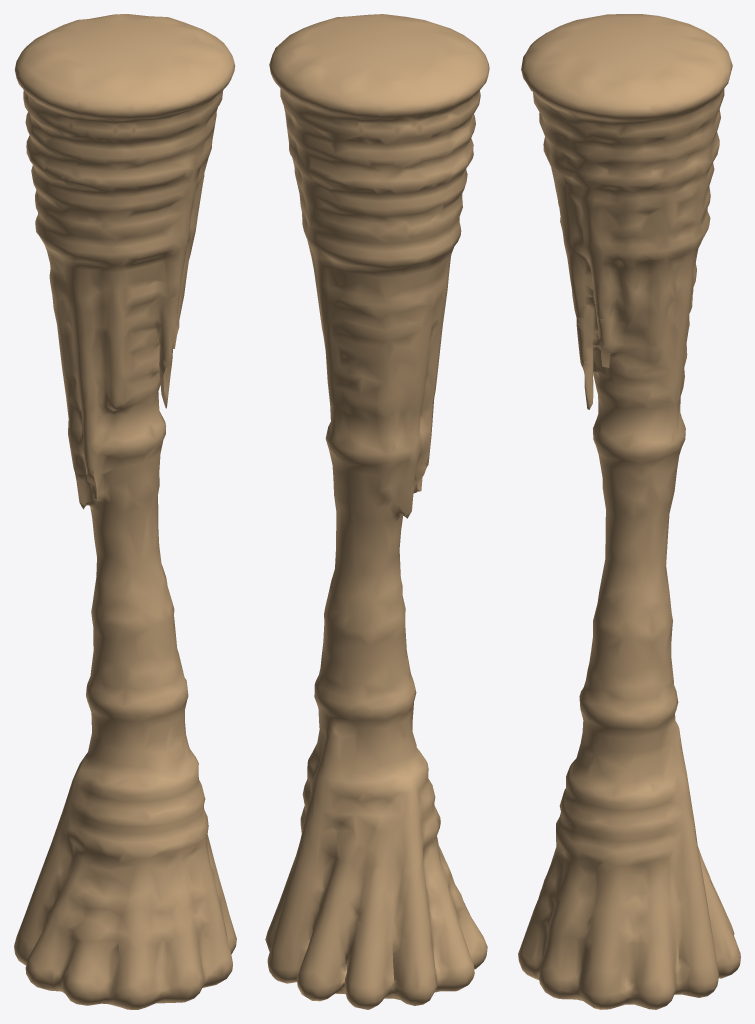
The model's file is column.glb.
3 renders of one model, left to right at view 1: azimuth 30°, elevation 25°; view 2: azimuth 150°, elevation 25°; view 3: azimuth 270°, elevation 25°, orthographic.
Visible parts, largest first — view 1: calcite0; view 2: calcite0; view 3: calcite0.
Part boxes in pixels (x1=…): calcite0: x1=14, y1=14, x2=236, y2=1009; calcite0: x1=265, y1=14, x2=489, y2=1009; calcite0: x1=518, y1=14, x2=740, y2=1009.
Size of the model in its own units: 1.82 by 8.48 by 1.82.
